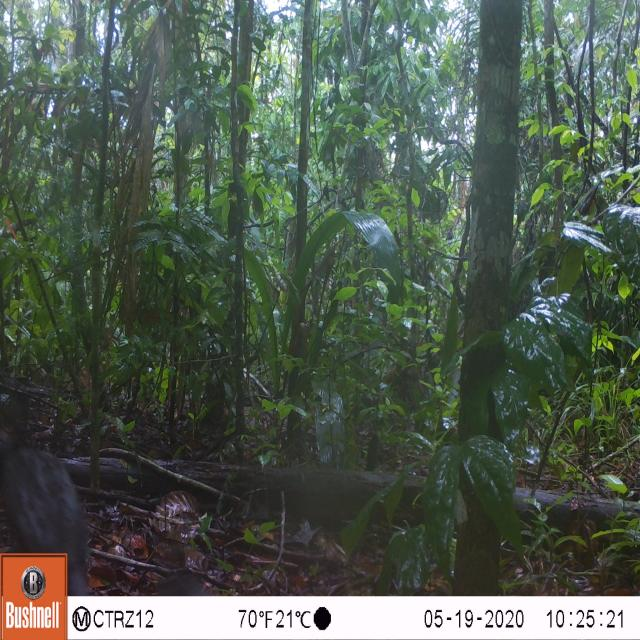Black Agouti: (0, 421, 127, 591)
